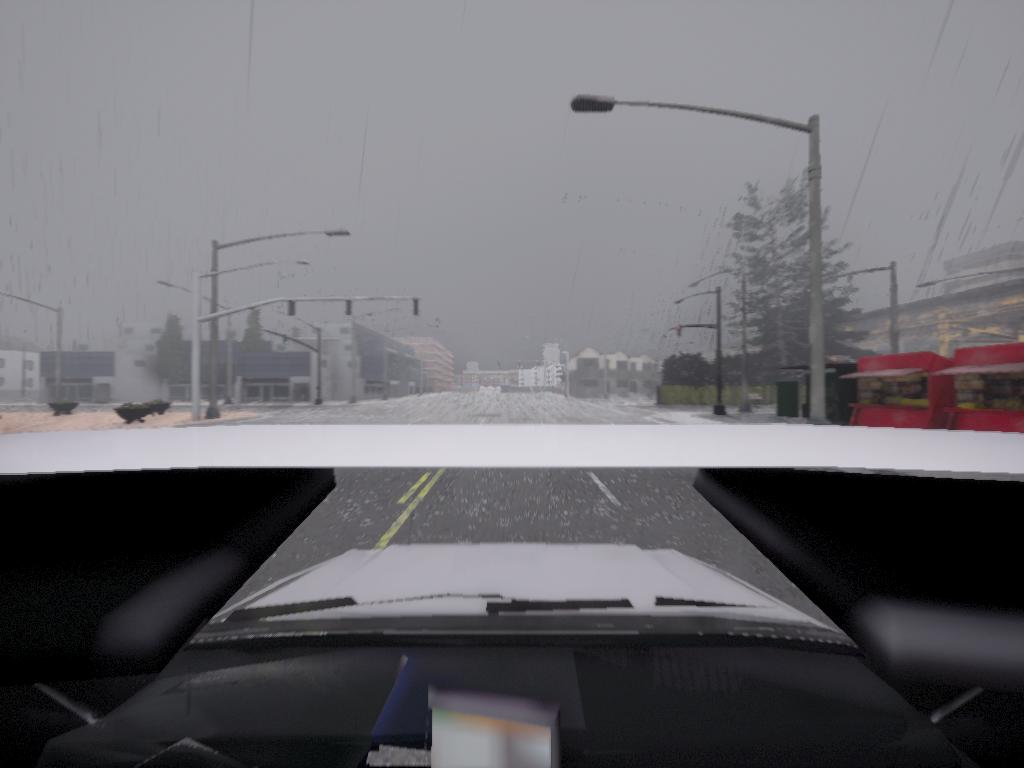traffic_light: (287, 299, 296, 323), (411, 298, 420, 317), (345, 300, 353, 316), (677, 326, 684, 342)
